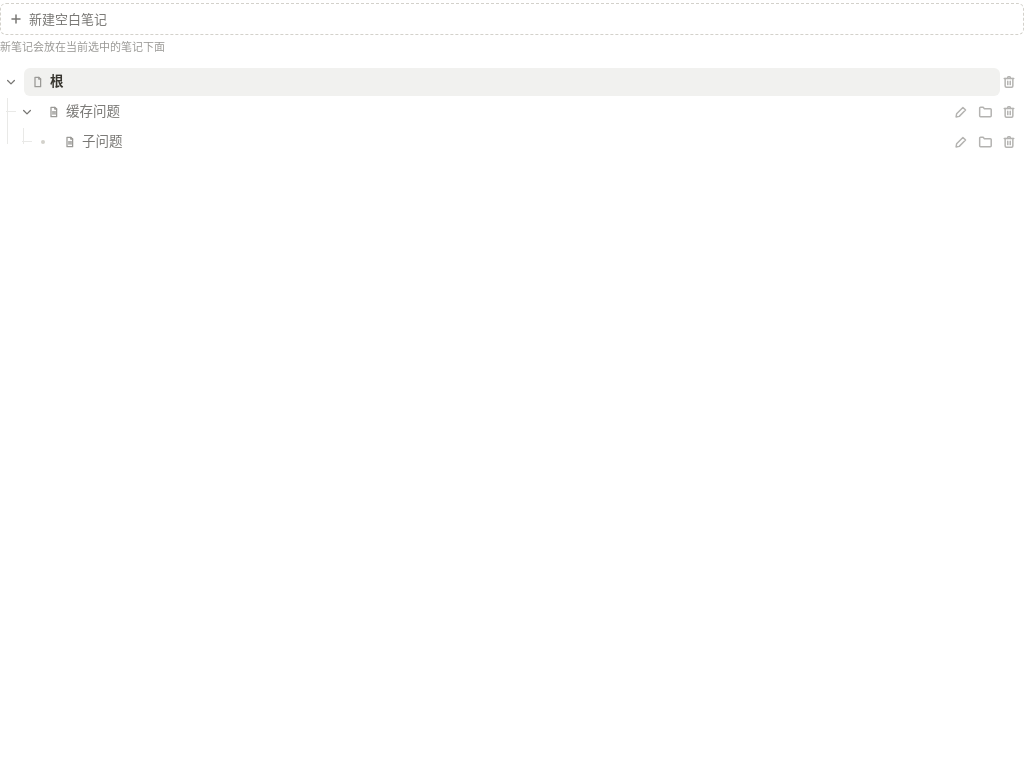
Scenario: tree node deletion › deletes a non-root subtree after confirming the cascade count, then offers undo
Click the button named "删除“缓存问题”".
click(1013, 112)  # box [1002,99,1023,125]
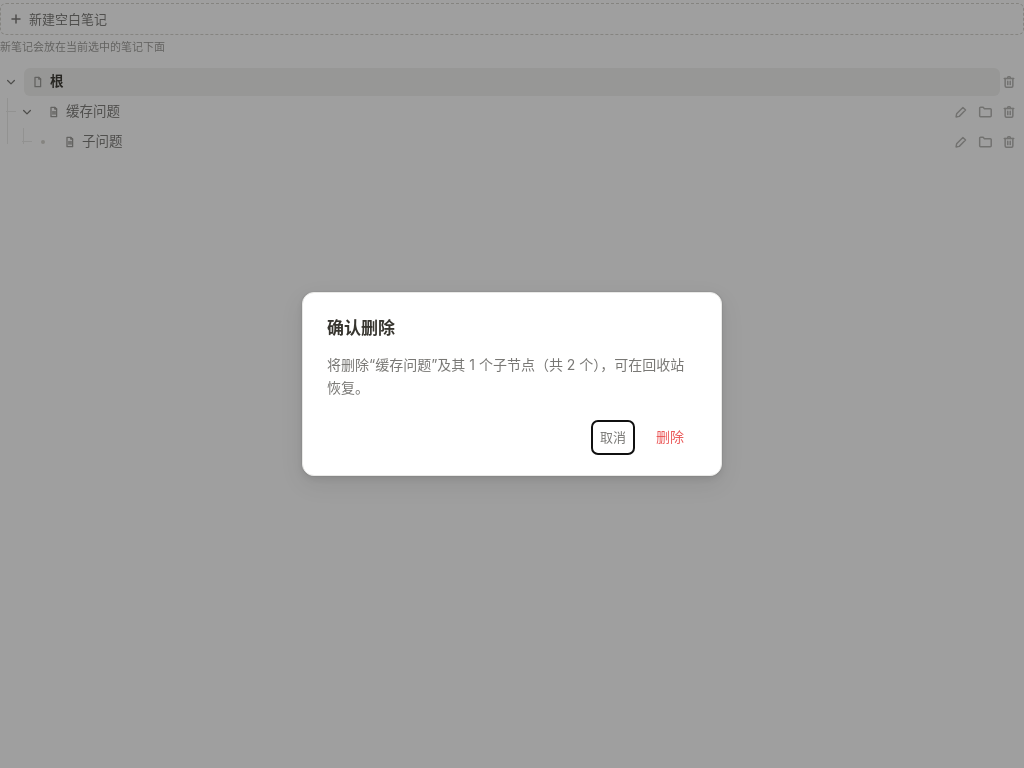
Expected: the dialog "确认删除" shows "共 2 个", [327,356,684,396]
Click the button "删除".
click(670, 437)  # box [643,420,697,455]
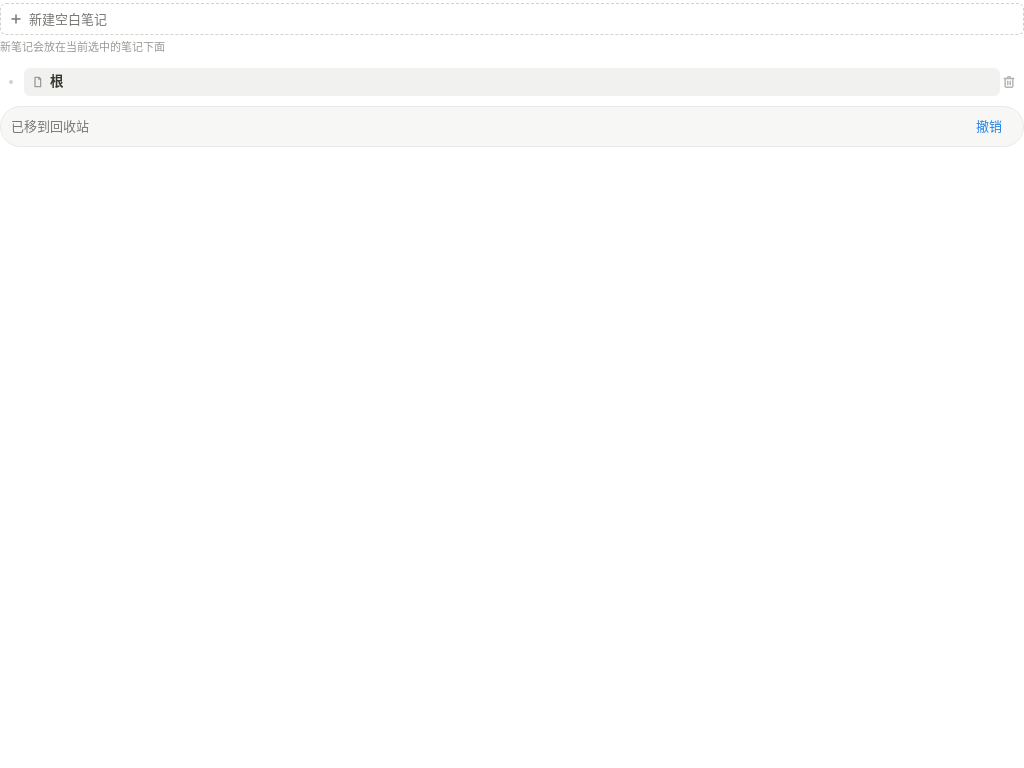
Expected: the button "缓存问题" is gone
Click the button "撤销".
click(989, 126)  # box [965,113,1013,140]
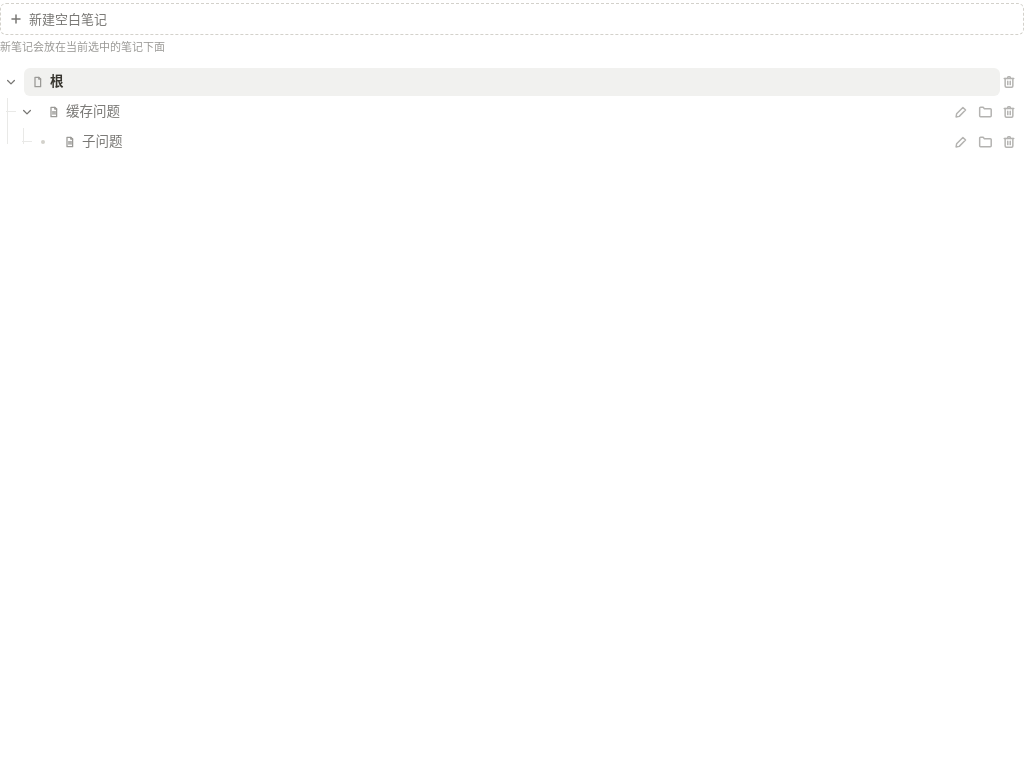
Expected: the button "缓存问题" is shown, [40,98,952,126]
